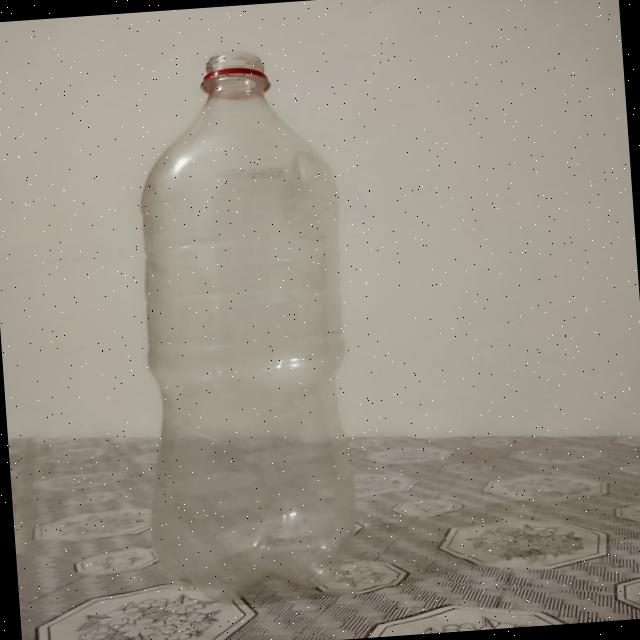bottle: (120, 39, 366, 612)
